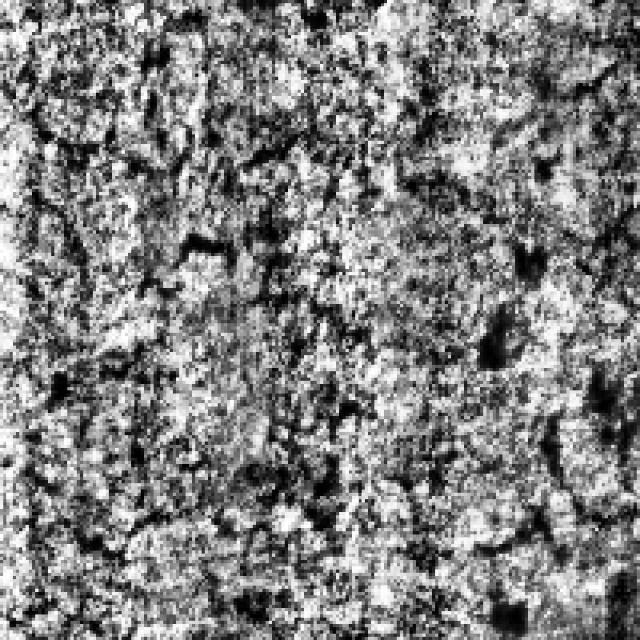Pitted_Surface: (22, 6, 381, 573), (464, 58, 634, 564)
